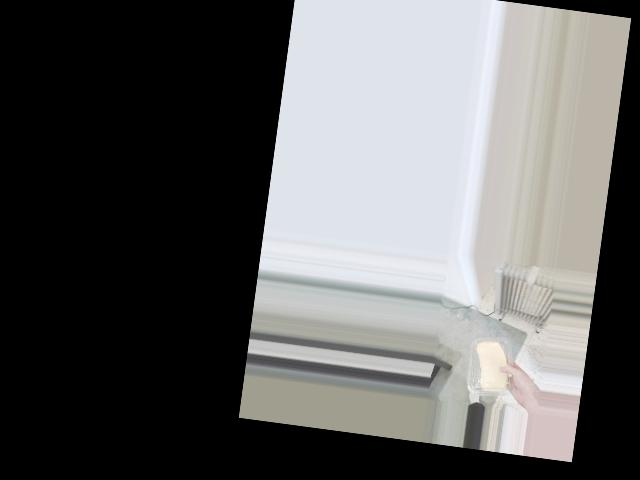cheese: (465, 332, 518, 398)
